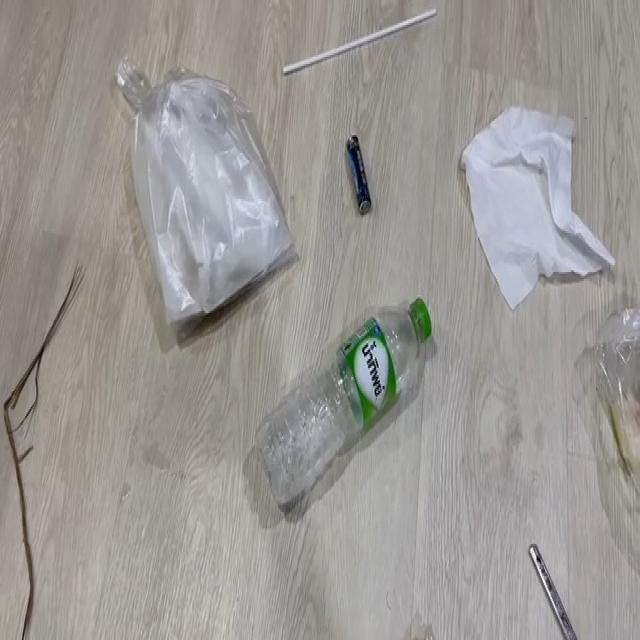Anorganik: (120, 40, 290, 296), (254, 280, 452, 480), (463, 78, 601, 302), (520, 506, 599, 640), (284, 1, 445, 66)
B3: (0, 234, 88, 640), (576, 298, 640, 496), (344, 118, 378, 223)
